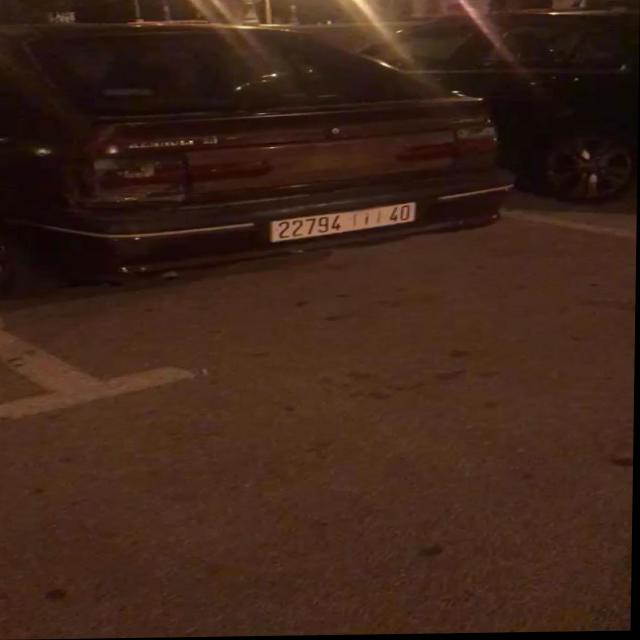License-Plate: (271, 204, 417, 242)
